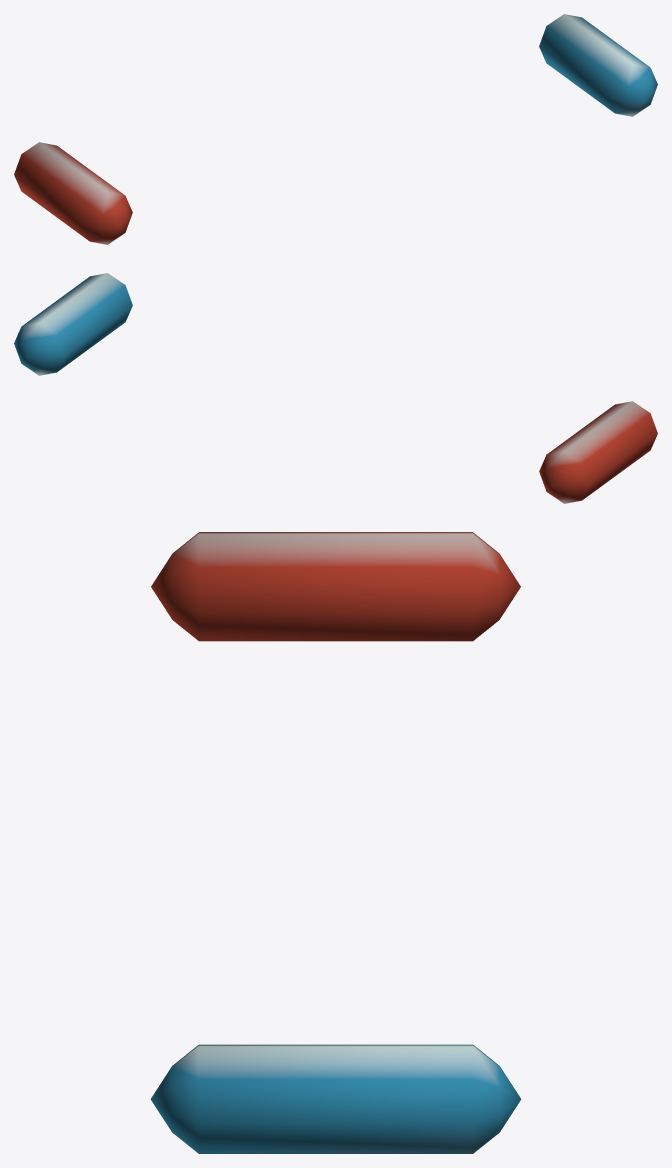
File: Tiro.fbx
3 views of the same model, one above another, from view 1: azimuth 30°, elevation 25°; view 2: azimuth 150°, elevation 25°; view 3: azimuth 270°, elevation 25° (orthographic). The views are drawn at different scales.
Parts seen in each view (by area): view 1: TiroJogadorRapido, TiroInimigoRapido; view 2: TiroJogadorRapido, TiroInimigoRapido; view 3: TiroJogadorRapido, TiroInimigoRapido.
Part boxes in pixels (box(x1,y1,x2,y2)): TiroJogadorRapido: box(539, 14, 657, 116); TiroInimigoRapido: box(14, 142, 132, 244); TiroJogadorRapido: box(14, 273, 132, 375); TiroInimigoRapido: box(539, 401, 657, 503); TiroJogadorRapido: box(150, 1044, 521, 1153); TiroInimigoRapido: box(151, 532, 520, 641).
Bounding box in the file's own units: 645 × 56.44 × 180.
